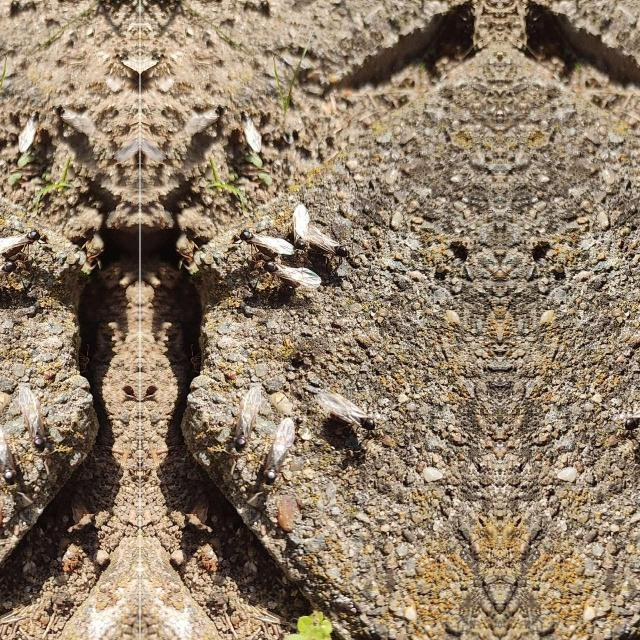Lasius: (250, 410, 308, 490), (316, 384, 382, 444), (265, 246, 331, 300), (226, 373, 266, 462), (14, 373, 54, 462), (0, 408, 30, 489), (304, 221, 352, 265), (140, 38, 172, 102), (108, 38, 140, 102), (238, 227, 298, 256), (282, 196, 316, 247), (236, 104, 268, 156), (12, 104, 44, 156), (618, 383, 640, 442), (0, 226, 42, 254), (0, 246, 14, 300)
